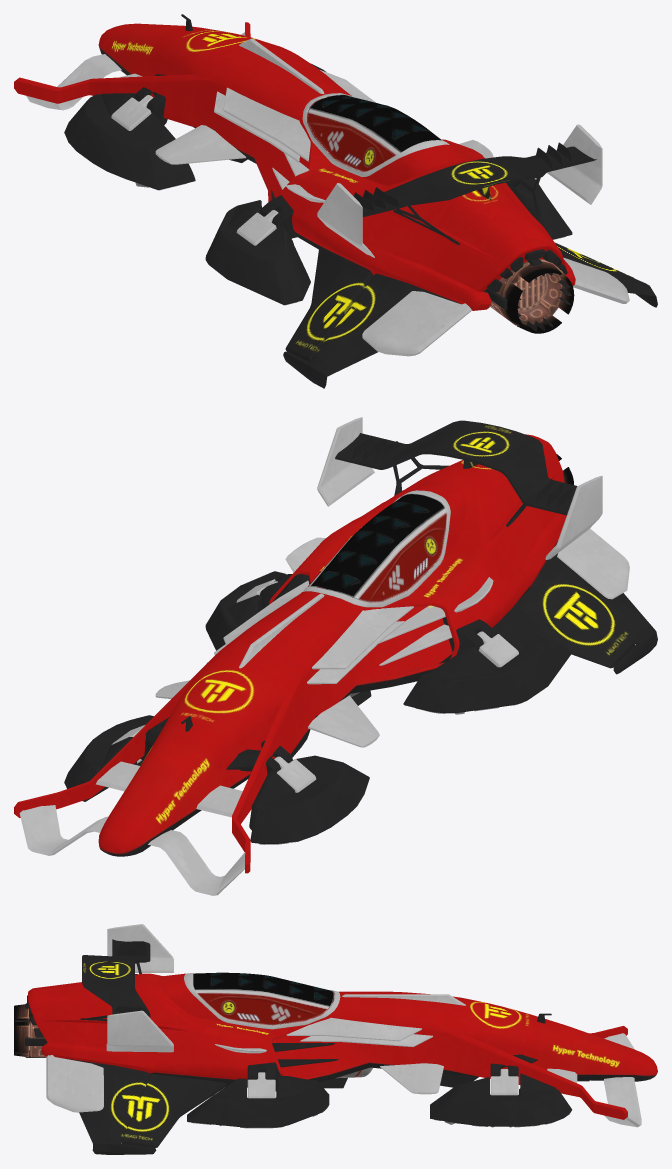
The model's file is Spaceship_3.glb.
3 renders of one model, top to bottom at view 1: azimuth 30°, elevation 25°; view 2: azimuth 150°, elevation 25°; view 3: azimuth 270°, elevation 25°, orthographic. The views are drawn at different scales.
Visible parts, largest first — view 1: Main_Body; view 2: Main_Body; view 3: Main_Body.
Part boxes in pixels (x1,y1,x2,y2): Main_Body: [14, 14, 657, 388]; Main_Body: [14, 417, 657, 895]; Main_Body: [14, 924, 657, 1154].
Bounding box in the file's own units: 152 × 73.4 × 337.
1 material, 1 textured.
